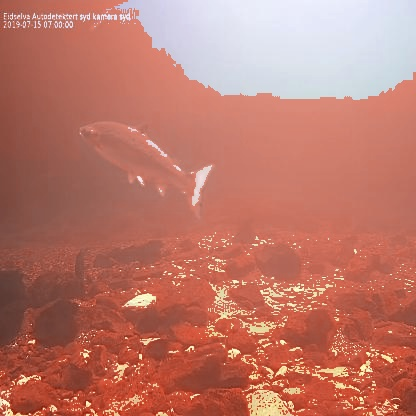salmon: (77, 116, 217, 220)
